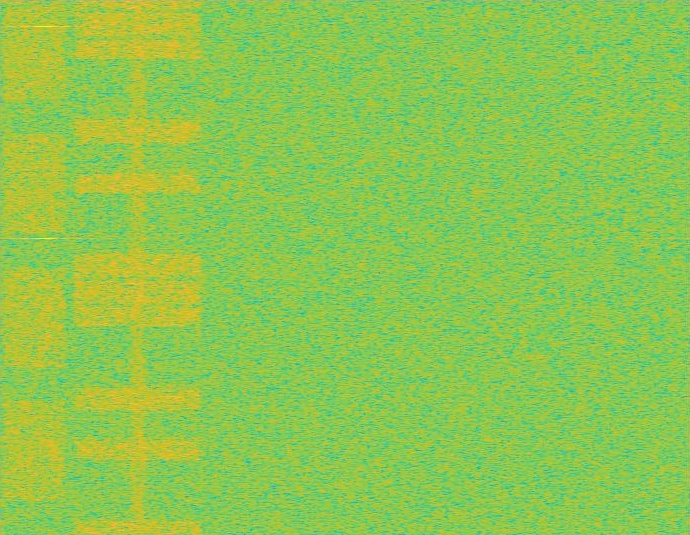5G: (0, 0, 69, 534)
DSSS: (129, 0, 147, 534)
LTE: (69, 0, 207, 534)
Radar: (38, 0, 52, 534)
